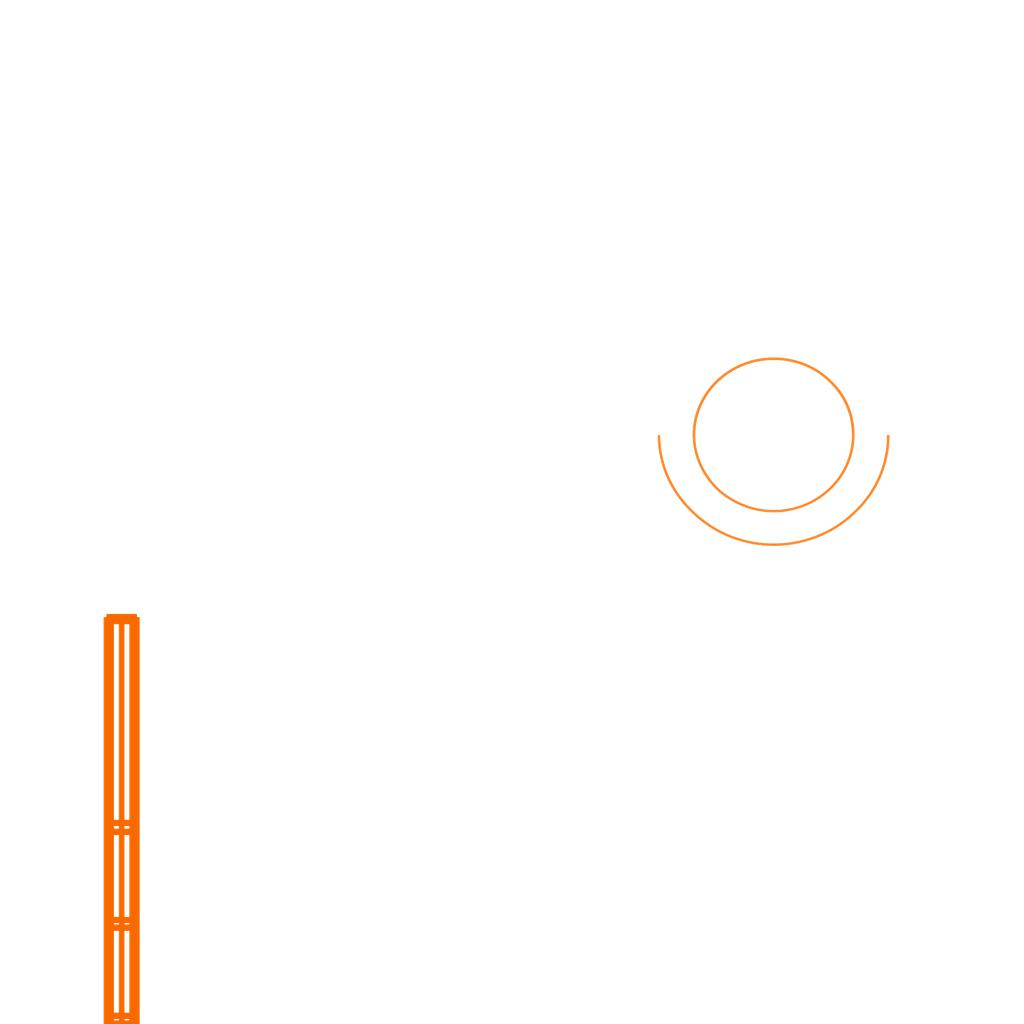Ambulanz_Pendelleuchte_LED: (91, 603, 203, 1024)
Scheinwerfer_fuer_Alarmbeleuchtung: (648, 332, 912, 557)
